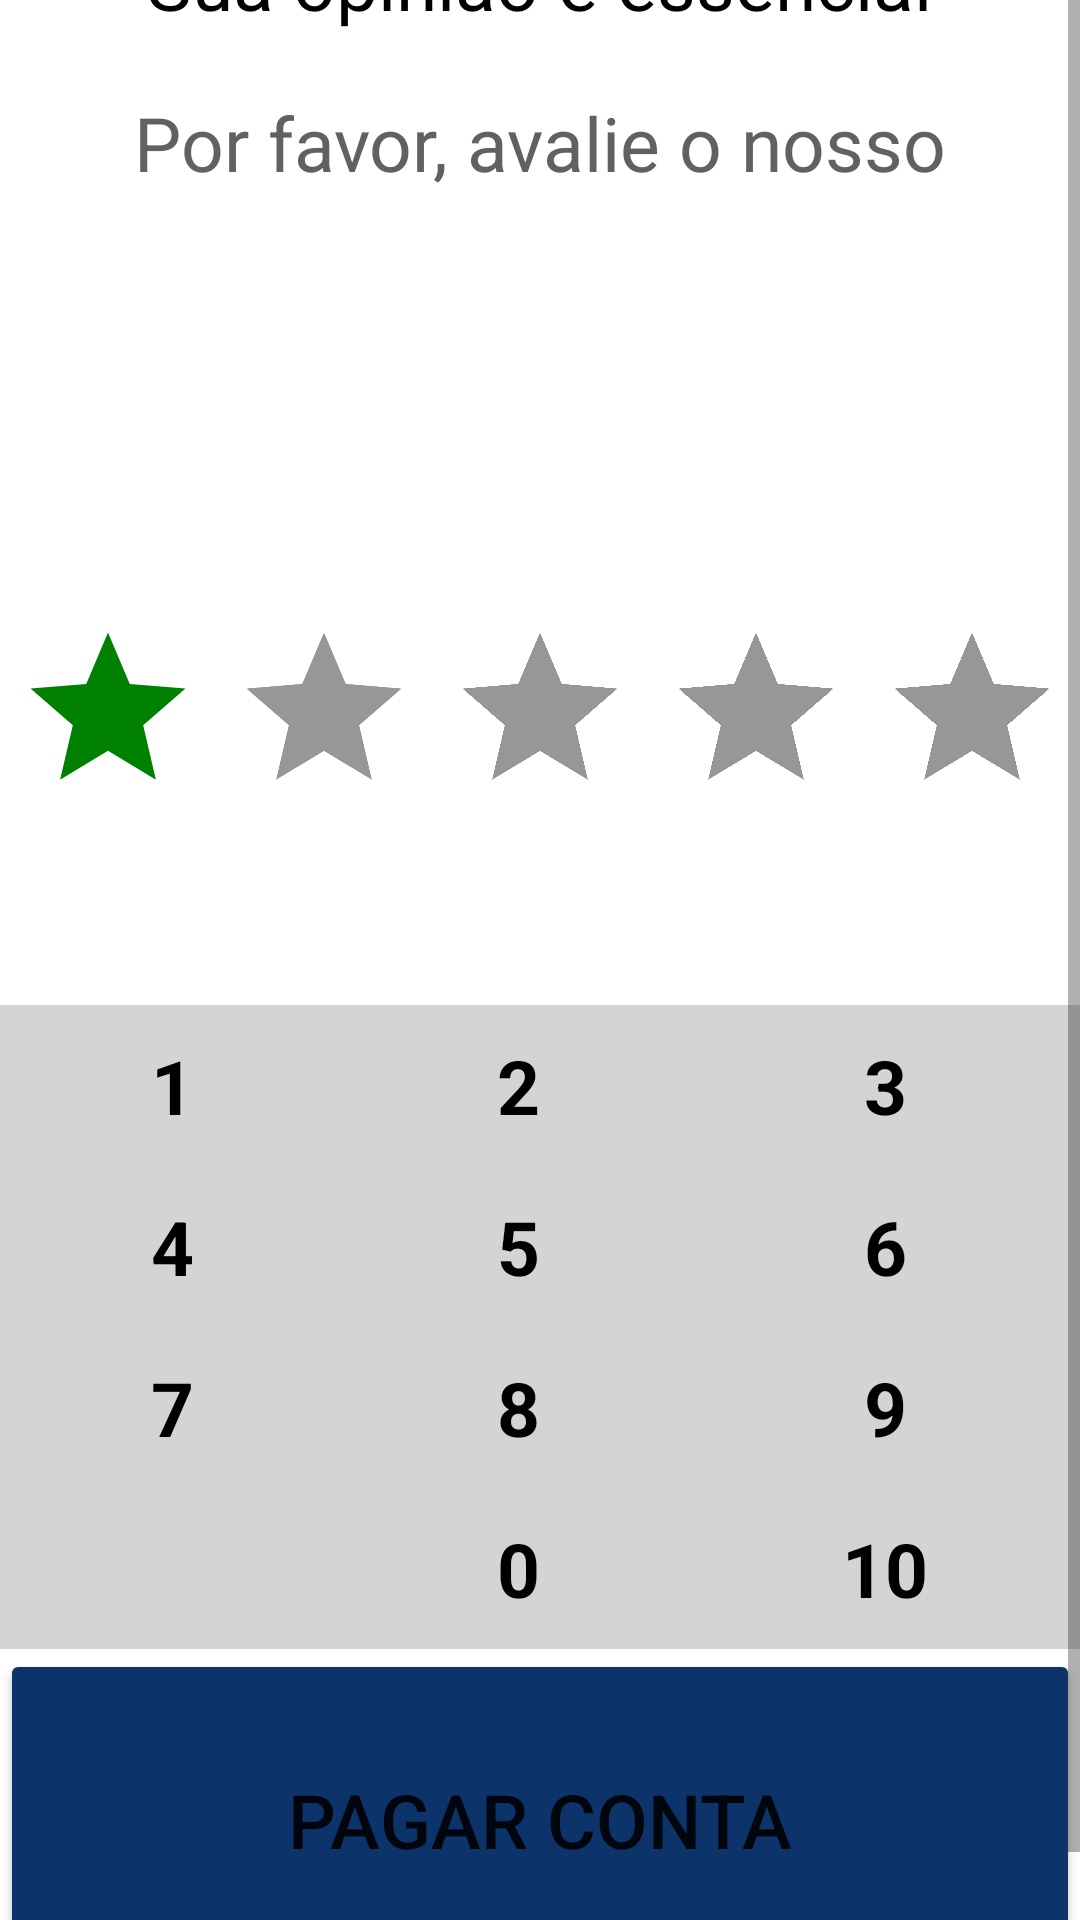

Icon bounding boxes for this 1080*1920 phone screenshot, format (x1, y1, x2, y2):
star: (30, 633, 186, 780)
star cinza: (247, 633, 401, 780), (463, 634, 617, 780), (679, 634, 833, 780), (895, 634, 1049, 780)
